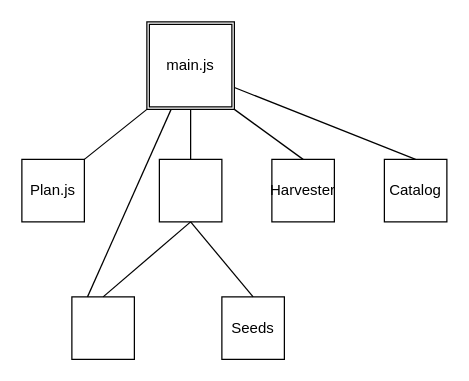
Image size: 469x381. Some labels were removed from this diagram. The centre of each missing label's shape, as x and y in pixels:
"Fields" goes at (102,327).
"Tractor" goes at (190,190).
